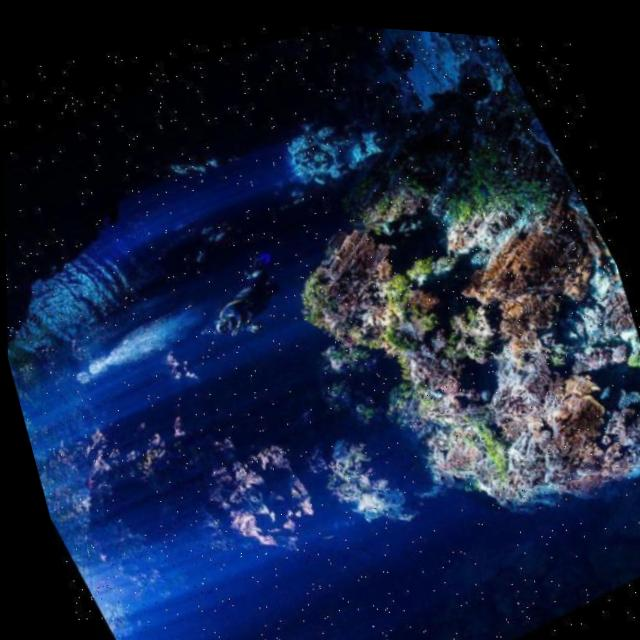Healthy Coral: (272, 90, 640, 542)
